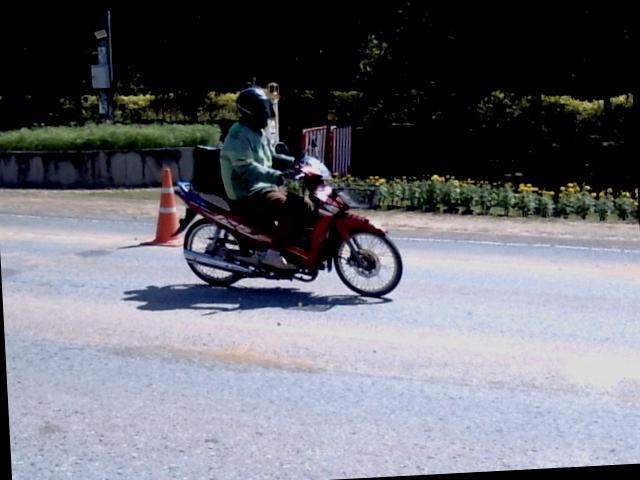helmet: (236, 86, 274, 127)
motor: (173, 156, 400, 296)
person: (220, 86, 311, 268)
